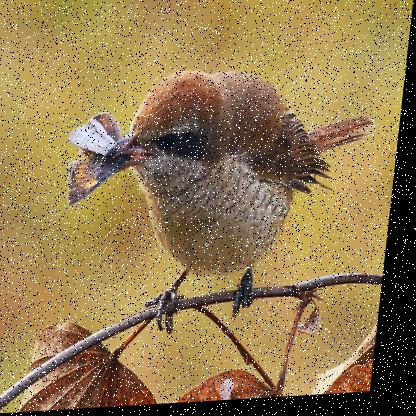Burung: (53, 56, 383, 329)
